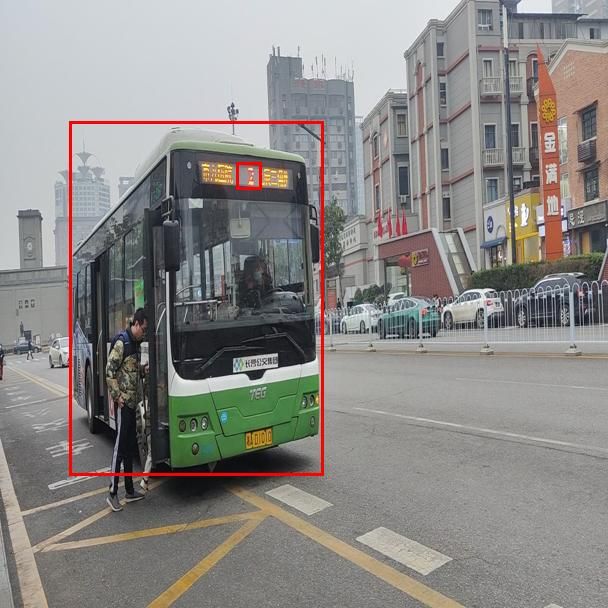bus: (69, 121, 323, 475)
screen: (236, 162, 261, 189)
